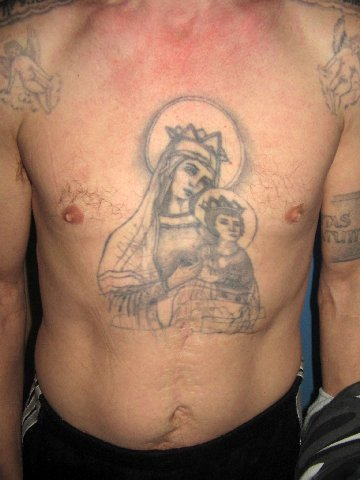tatu1_angel: (1, 26, 64, 116), (306, 14, 360, 119)
tatu2_bogorodica: (97, 120, 264, 335)
